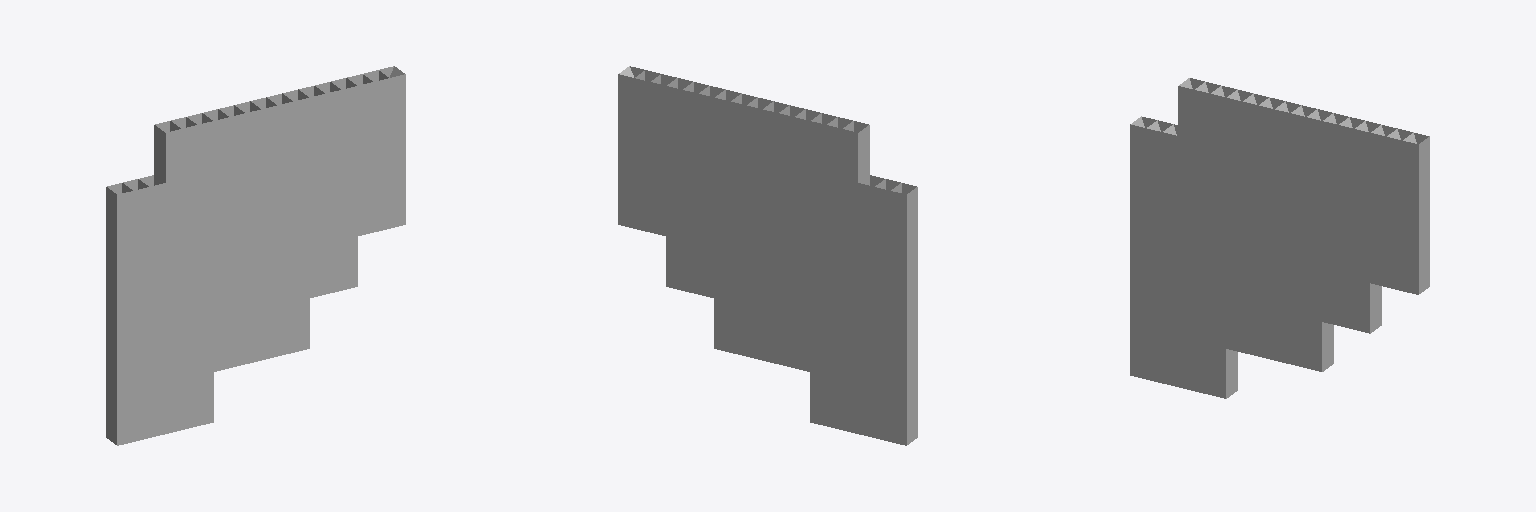
The model's file is 3d_Barrens-Oasis 01.wlw.obj.
3 views of the same model, side by side, from view 1: azimuth 30°, elevation 25°; view 2: azimuth 150°, elevation 25°; view 3: azimuth 330°, elevation 25° (orthographic).
Size of the model in its own units: 150 by 150 by 10.